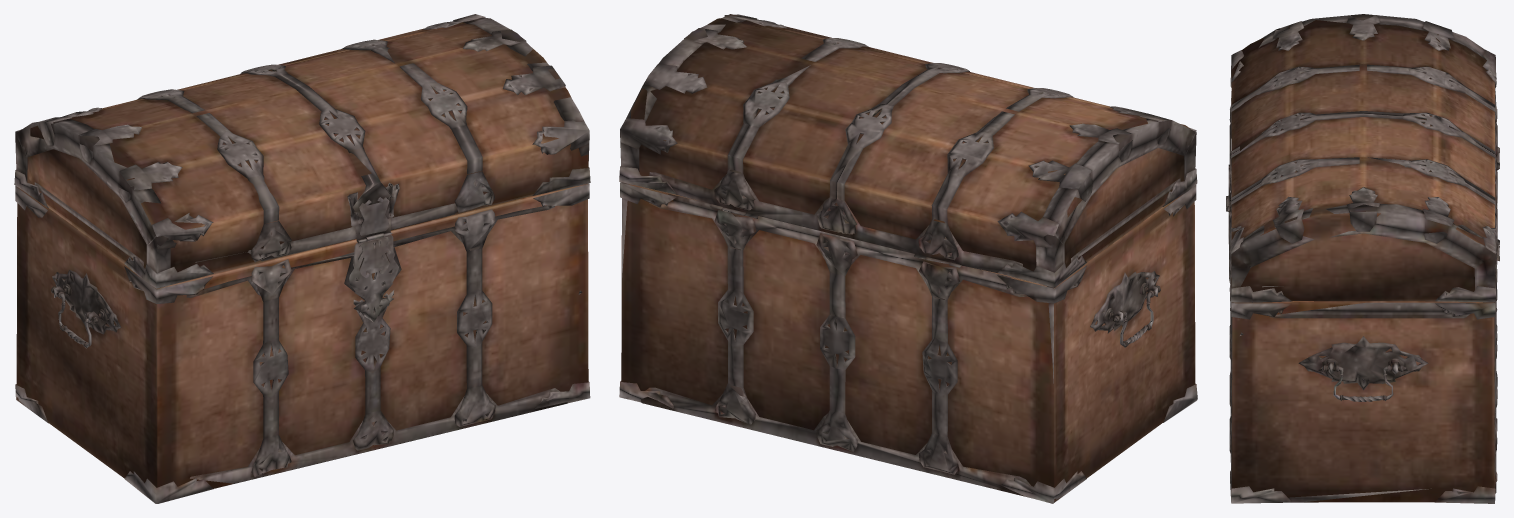
The model's file is chest.glb.
3 views of the same model, side by side, from view 1: azimuth 30°, elevation 25°; view 2: azimuth 150°, elevation 25°; view 3: azimuth 270°, elevation 25° (orthographic). The views are drawn at different scales.
Visible parts, largest first — view 1: treasure_chest_bottom, treasure_chest_lid, treasure_chest_lock; view 2: treasure_chest_bottom, treasure_chest_lid; view 3: treasure_chest_lid, treasure_chest_bottom, treasure_chest_handle_right.
Part boxes in pixels (x1,y1,x2,y2): treasure_chest_bottom: [15, 183, 590, 503]; treasure_chest_lid: [14, 14, 590, 288]; treasure_chest_lock: [349, 233, 398, 322]; treasure_chest_bottom: [619, 182, 1197, 503]; treasure_chest_lid: [619, 14, 1197, 287]; treasure_chest_lid: [1226, 14, 1499, 302]; treasure_chest_bottom: [1229, 152, 1499, 503]; treasure_chest_handle_right: [1320, 365, 1406, 401].
Bounding box in the file's own units: 0.9512 × 0.6158 × 0.5223.
1 material, 1 textured.
